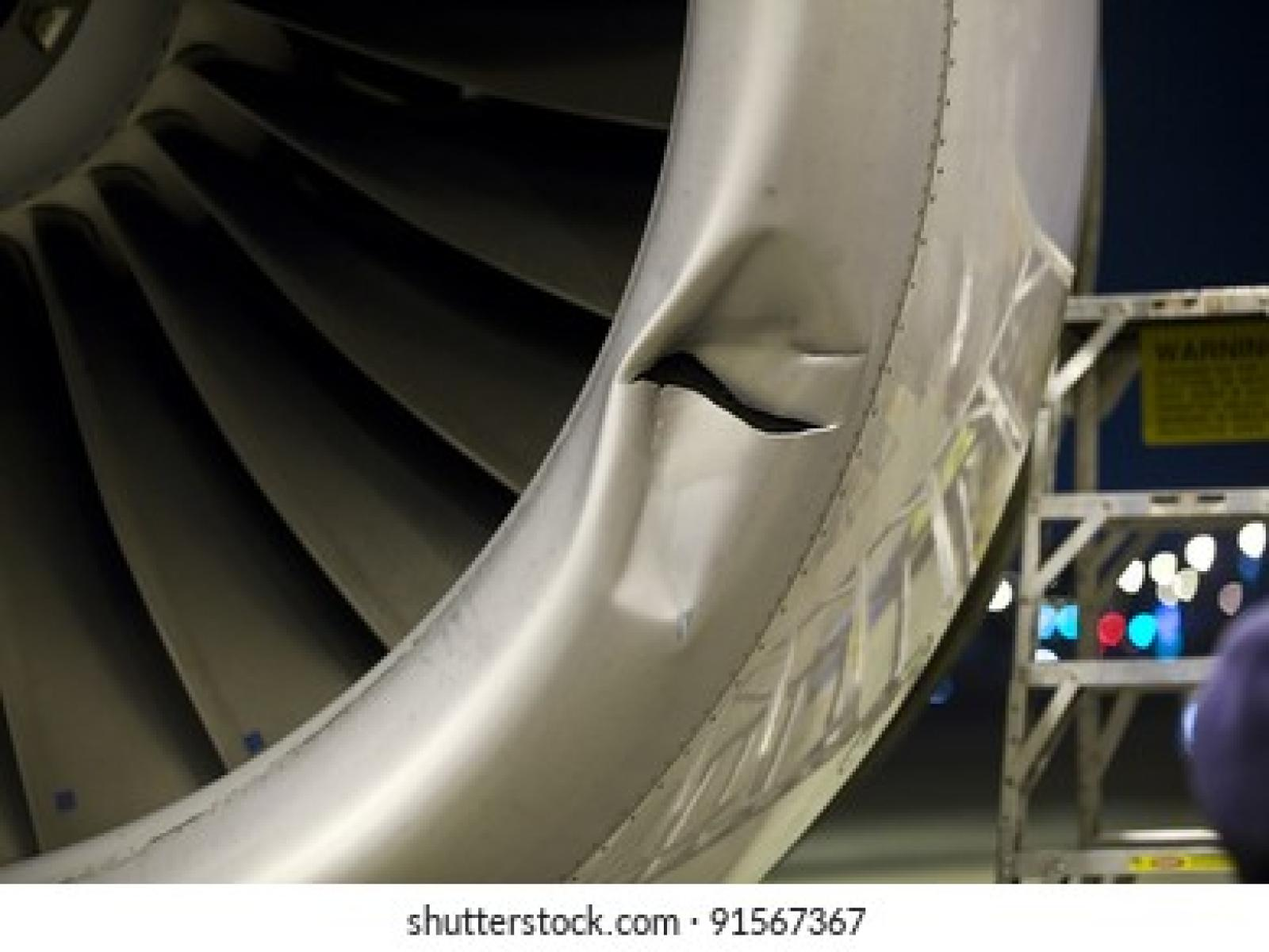Engine_damage: (550, 210, 883, 624), (634, 350, 817, 432)
